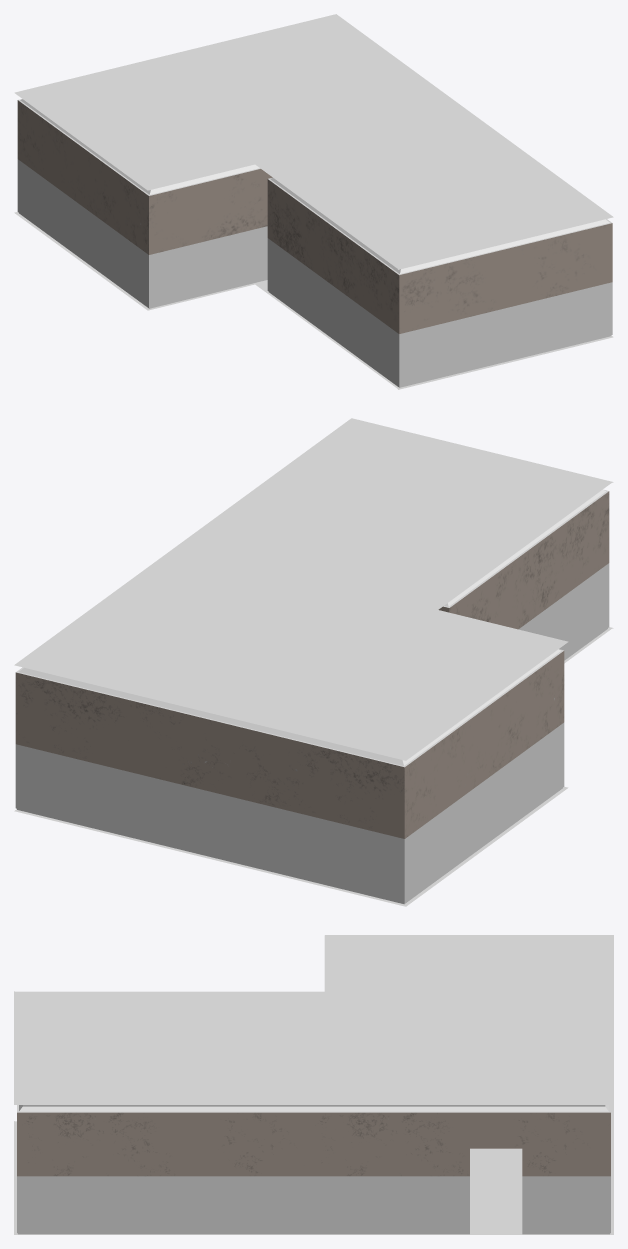
Rendered from AR_ExamRoom.fbx.
3 views of the same model, one above another, from view 1: azimuth 30°, elevation 25°; view 2: azimuth 150°, elevation 25°; view 3: azimuth 270°, elevation 25° (orthographic). The views are drawn at different scales.
Parts seen in each view (by area): view 1: Exam_Room_A_Ceiling, Exam_Room_A_Walls, Exam_Room_A_Floor; view 2: Exam_Room_A_Ceiling, Exam_Room_A_Walls, Exam_Room_A_Floor; view 3: Exam_Room_A_Ceiling, Exam_Room_A_Walls, Exam_Room_A_Floor.
Boxes of the visible parts, x1=… form: Exam_Room_A_Ceiling: x1=14, y1=14, x2=613, y2=269; Exam_Room_A_Walls: x1=17, y1=99, x2=612, y2=388; Exam_Room_A_Floor: x1=14, y1=212, x2=613, y2=389; Exam_Room_A_Ceiling: x1=14, y1=418, x2=613, y2=760; Exam_Room_A_Walls: x1=15, y1=489, x2=609, y2=904; Exam_Room_A_Floor: x1=14, y1=627, x2=613, y2=906; Exam_Room_A_Ceiling: x1=14, y1=935, x2=613, y2=1104; Exam_Room_A_Walls: x1=17, y1=1105, x2=610, y2=1234; Exam_Room_A_Floor: x1=14, y1=1105, x2=613, y2=1234.
Size of the model in its own units: 9.07 by 13.53 by 3.23.
